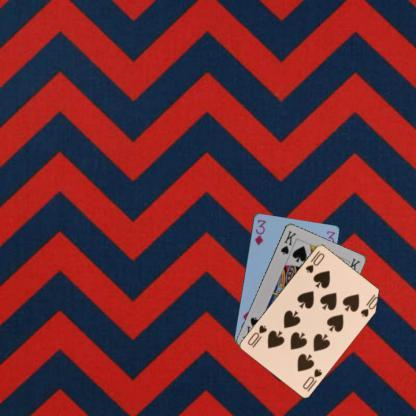10s: (303, 247, 326, 274), (300, 366, 324, 390)
3d: (251, 217, 268, 246)
Ks: (278, 228, 298, 257)
